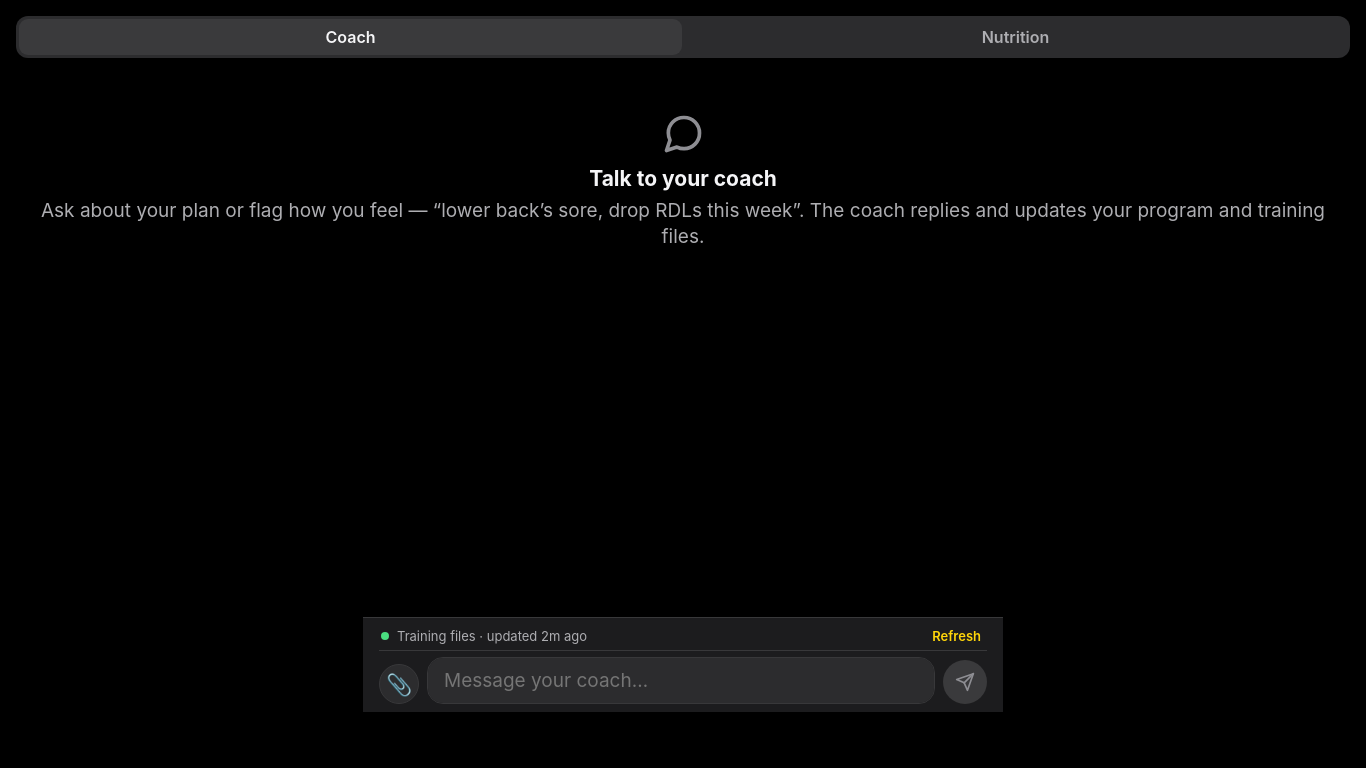
CoachPane — background context refresh › distinguishes "refreshed, nothing new" from a real update
Expected: the text "Training files · updated 2m ago" is shown, [397,628,587,644]
Click the button with aria-label "Refresh training files". click: (957, 636)
box: [928,626,985,646]
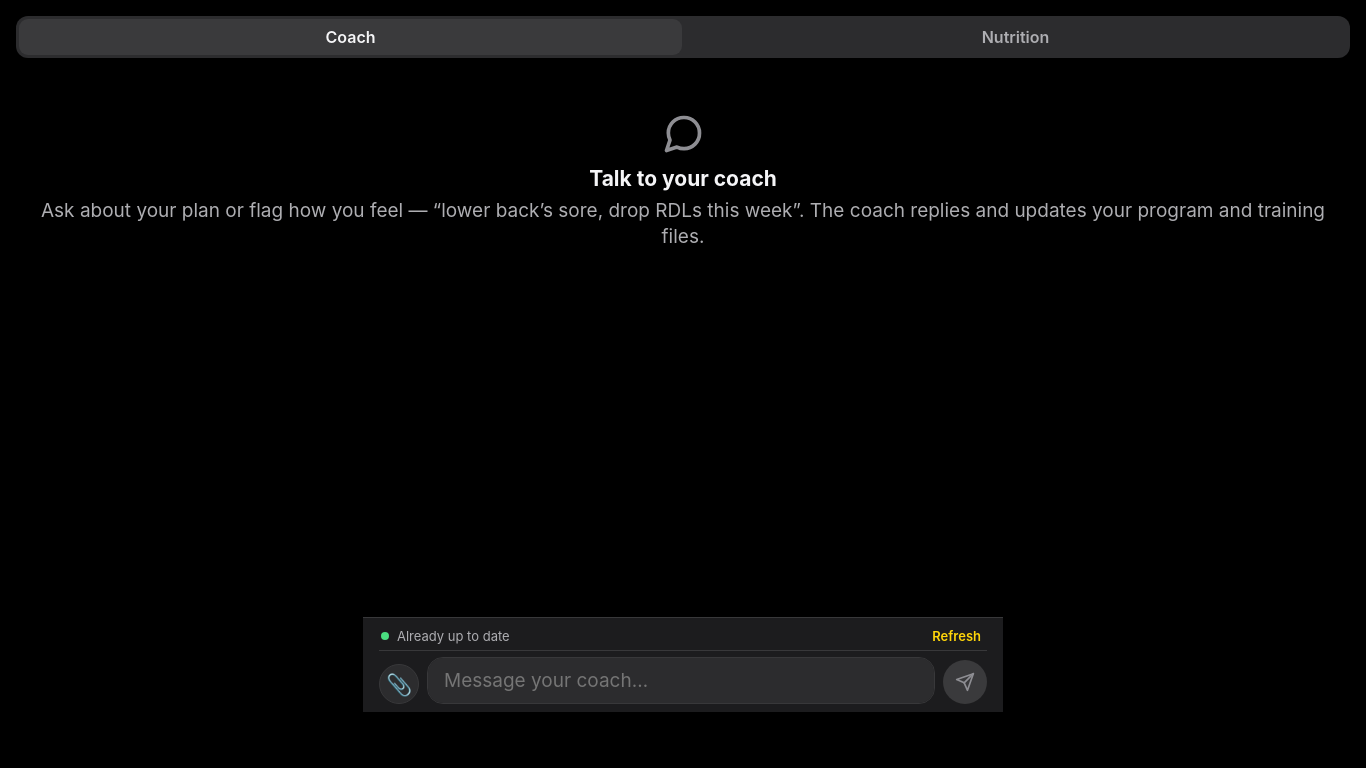
Expected: the text "Already up to date" is shown, [397,628,510,644]
